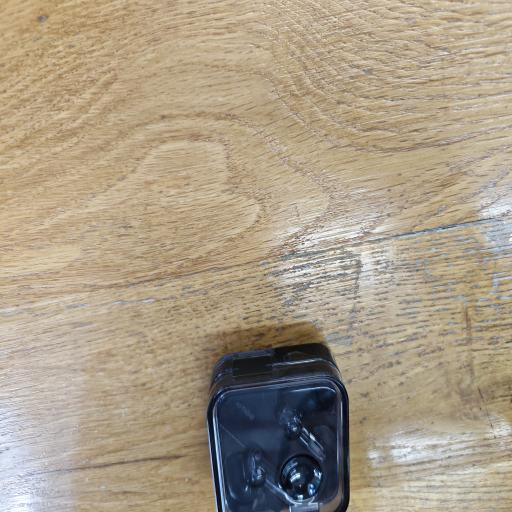Headphones: (199, 336, 353, 512)
